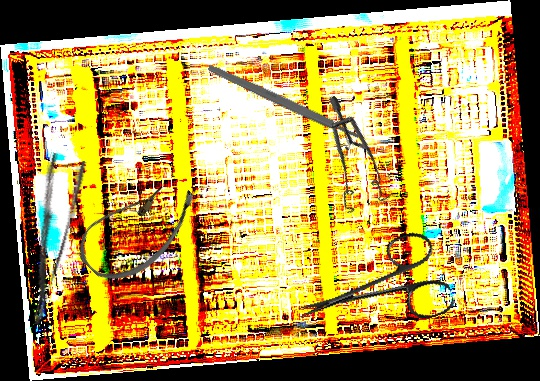Cannula: (67, 157, 208, 298)
Dressing Forceps: (4, 151, 90, 327)
Iris Scissors: (286, 226, 457, 357)
Scalpel Handle: (206, 62, 361, 142)
Speculum: (280, 93, 414, 228)
